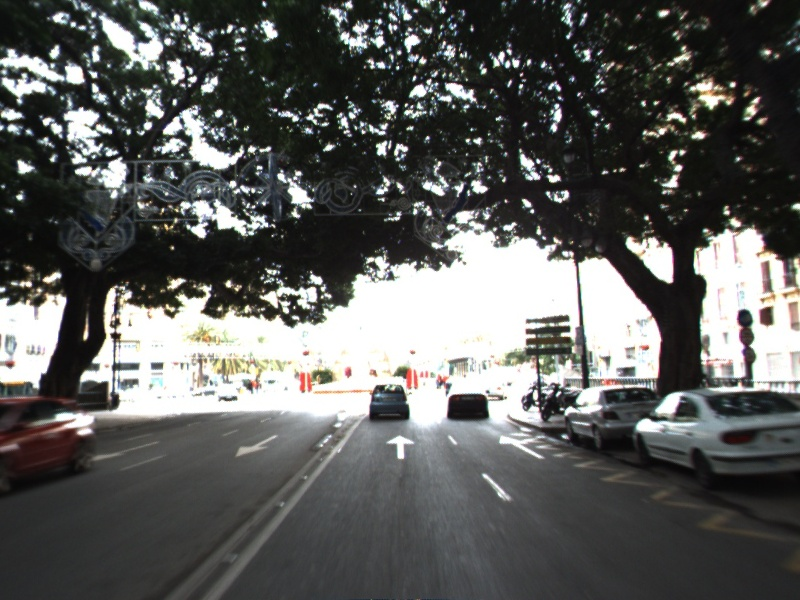STRAIGHT: (497, 433, 548, 461), (384, 433, 417, 461)
